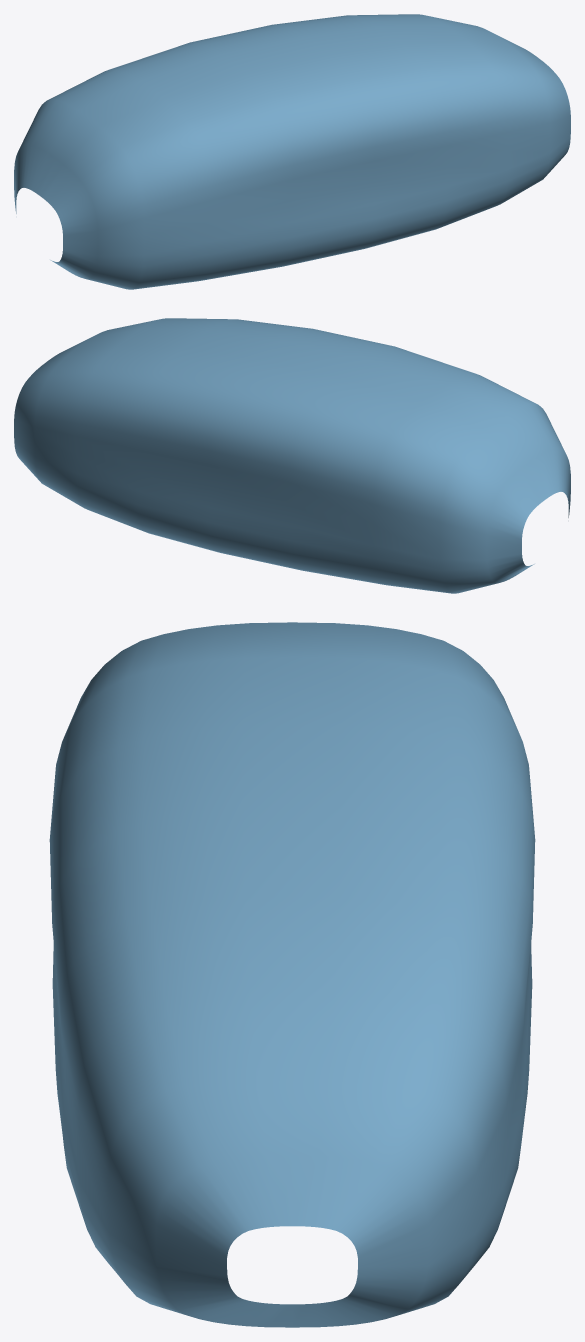
File: tank_hd.glb
3 views of the same model, one above another, from view 1: azimuth 30°, elevation 25°; view 2: azimuth 150°, elevation 25°; view 3: azimuth 270°, elevation 25° (orthographic). The views are drawn at different scales.
Visible parts, largest first — view 1: S51_HD_tank; view 2: S51_HD_tank; view 3: S51_HD_tank.
Boxes of the visible parts, x1,y1,x2,y2 form: S51_HD_tank: (14, 14, 570, 289); S51_HD_tank: (14, 318, 570, 593); S51_HD_tank: (49, 622, 535, 1327).
Bounding box in the file's own units: 1.88 × 0.6359 × 0.7695.
